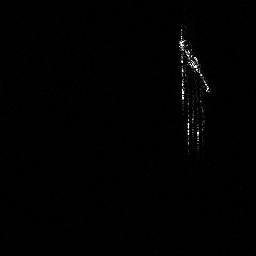ship: (174, 22, 215, 152)
